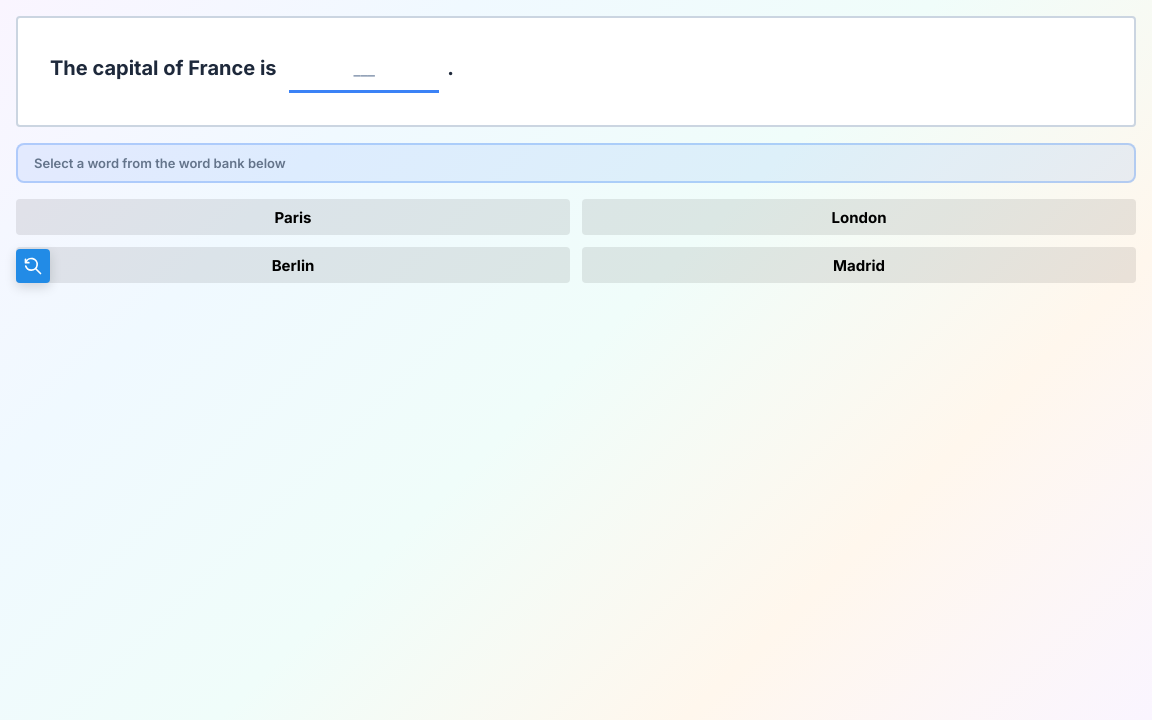
Test case: CompletionView › should fill the blank when a word is clicked
The image size is (1152, 720).
Expected: the text "___" is shown, [289, 50, 439, 93]
What coordinates should you click on to do the following:
click the button "Paris"
I would click on:
 (293, 217)
Its box is [16, 199, 570, 235].
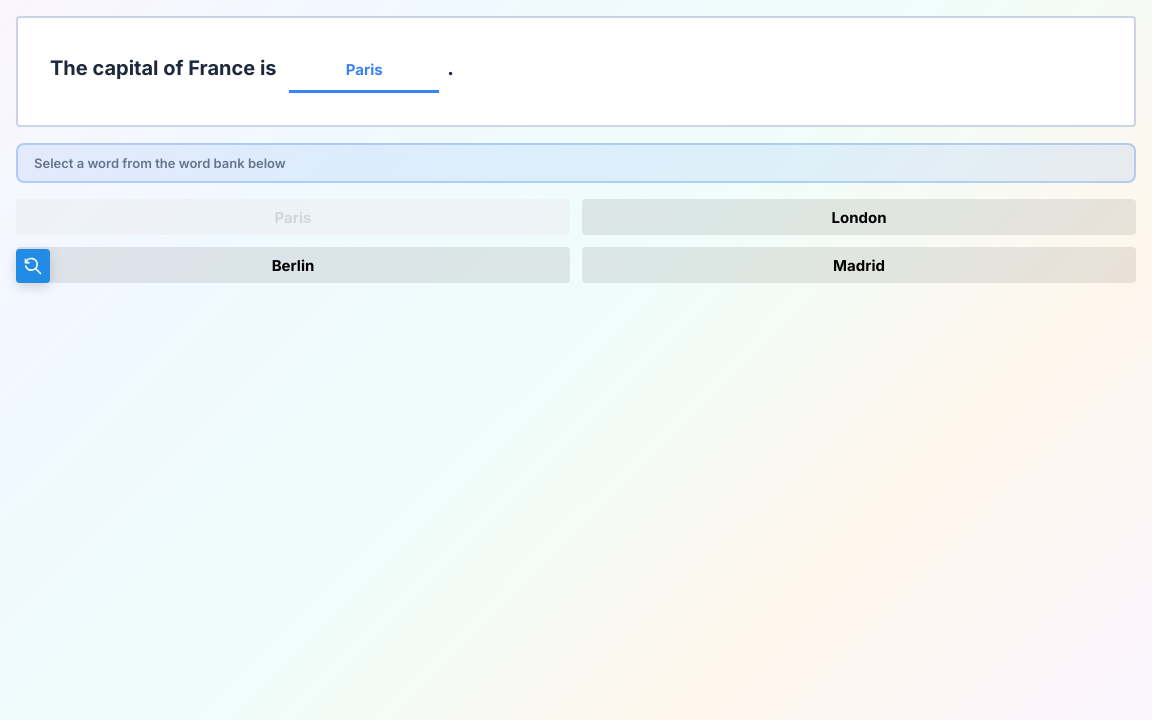
Result: the text "___" is gone
Result: the text "Paris" is shown at [289, 50, 439, 93]
